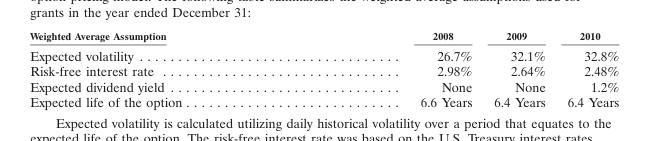table: (29, 29, 618, 109)
table column: (29, 29, 300, 109), (300, 29, 482, 109), (482, 29, 555, 109), (555, 29, 618, 109)
table column header: (29, 29, 618, 44)
table row: (29, 44, 618, 62), (29, 62, 618, 78), (29, 93, 618, 109), (29, 29, 618, 44), (29, 78, 618, 93)
